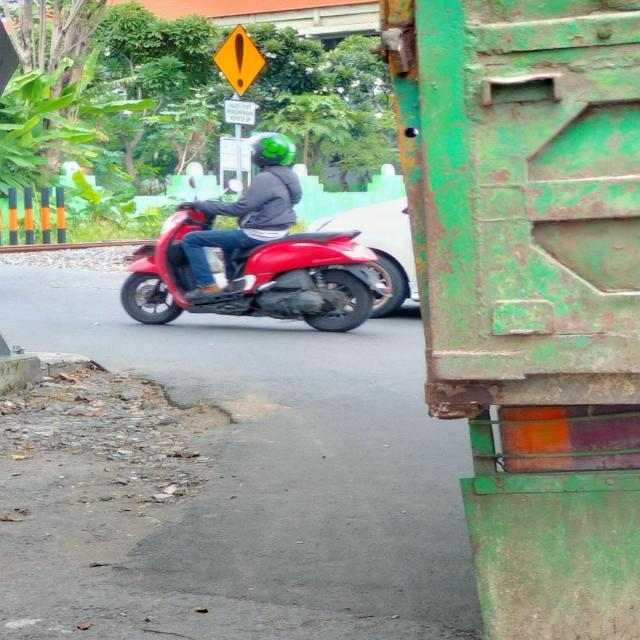Hati-Hati: (213, 23, 267, 98)
